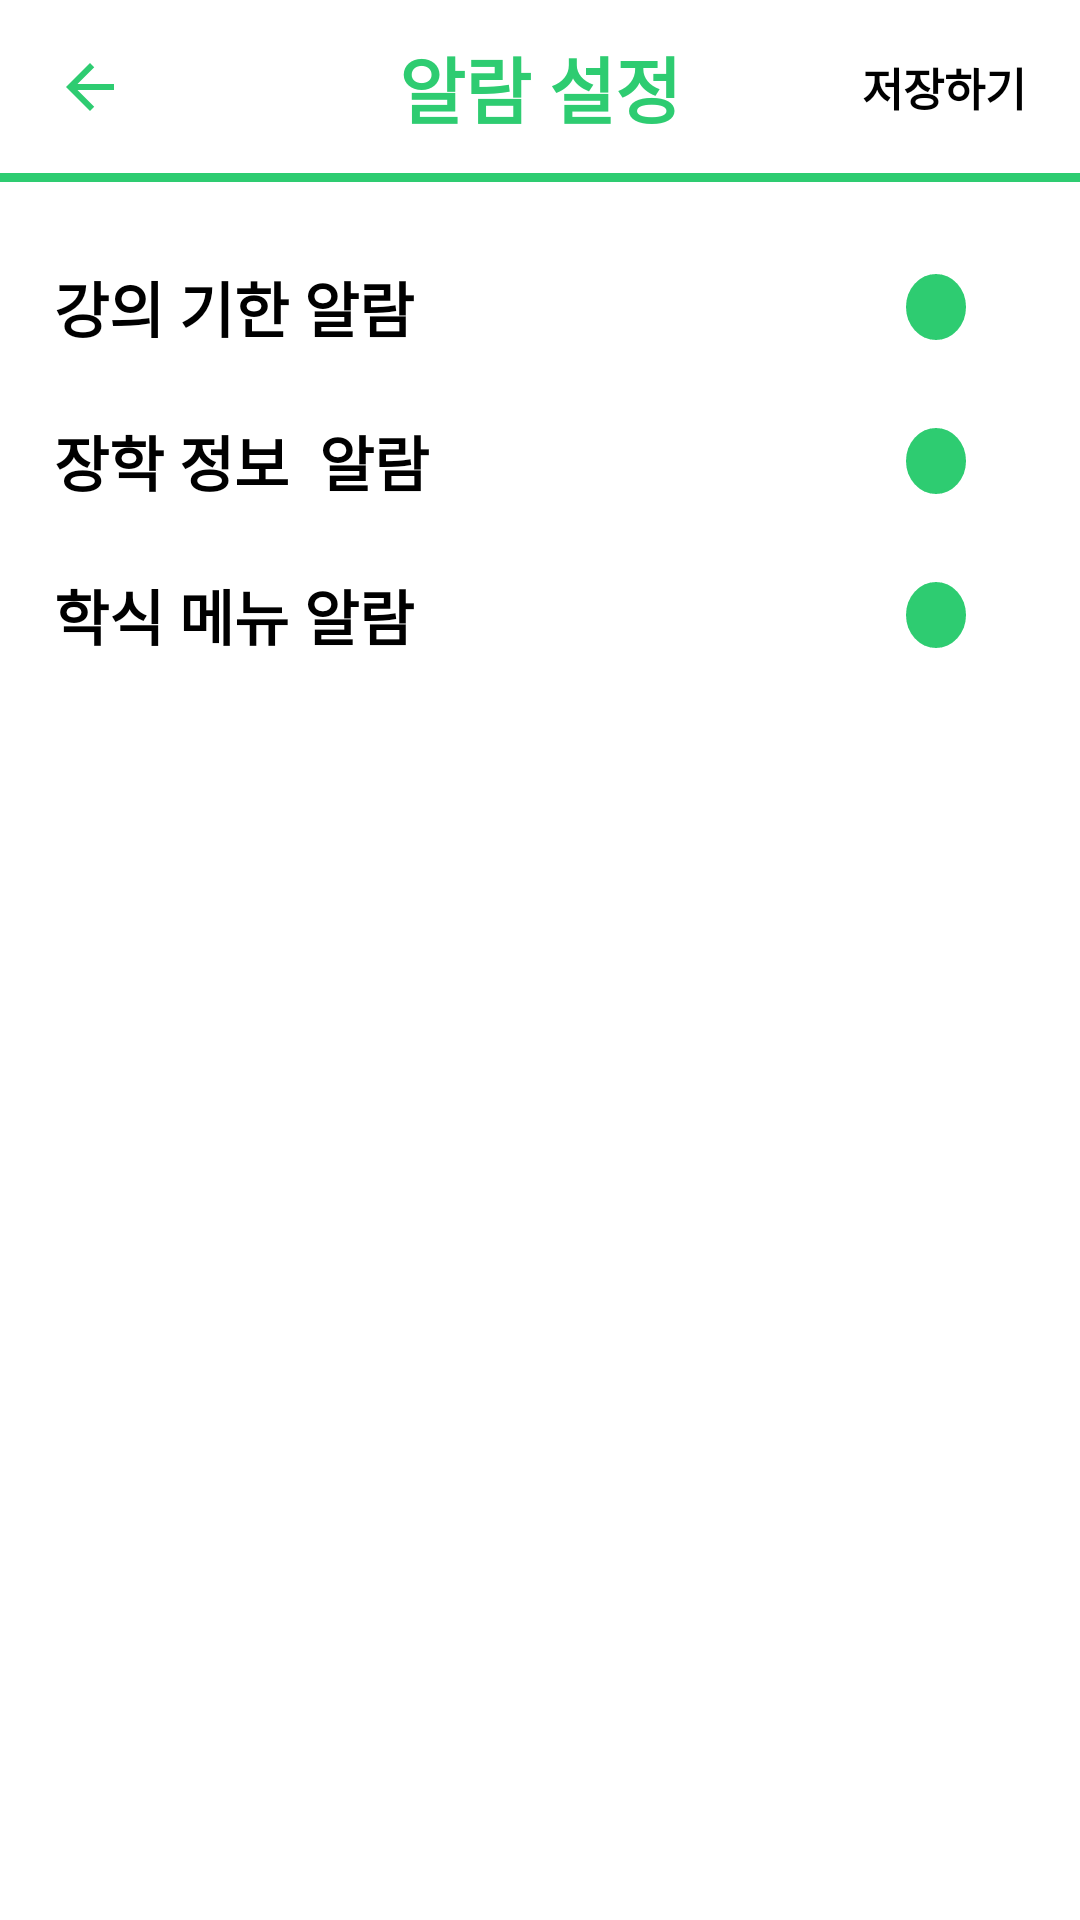

Screen size 1080 x 1920. Icon name, then its box in pixels as (x1, y1, x2, y2):
number back: (66, 63, 114, 111)
